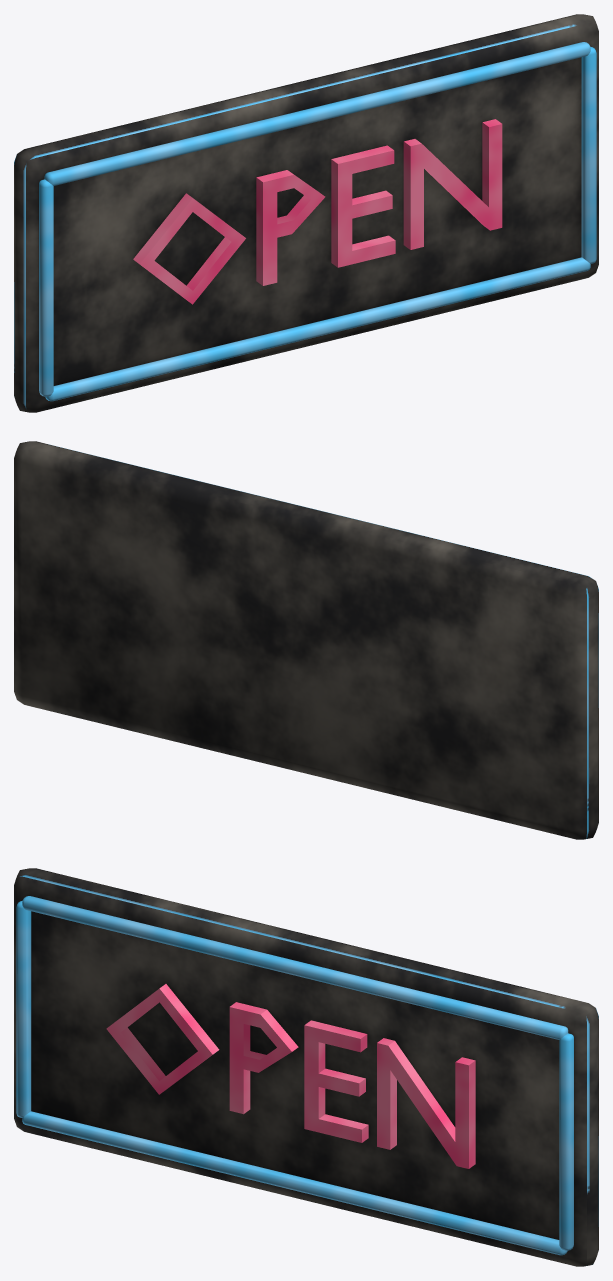
The model's file is neon_open_sign.fbx.
3 renders of one model, top to bottom at view 1: azimuth 30°, elevation 25°; view 2: azimuth 150°, elevation 25°; view 3: azimuth 330°, elevation 25°, orthographic.
Visible parts, largest first — view 1: Body, Glow; view 2: Body; view 3: Body, Glow.
Part boxes in pixels (x1,y1,x2,y2): Body: (14, 14, 598, 412); Glow: (39, 42, 596, 401); Body: (14, 441, 598, 839); Body: (14, 868, 598, 1266); Glow: (16, 896, 573, 1255).
Size of the model in its own units: 3 by 1.3 by 0.225.
Materials: 1 (1 with a texture image).
